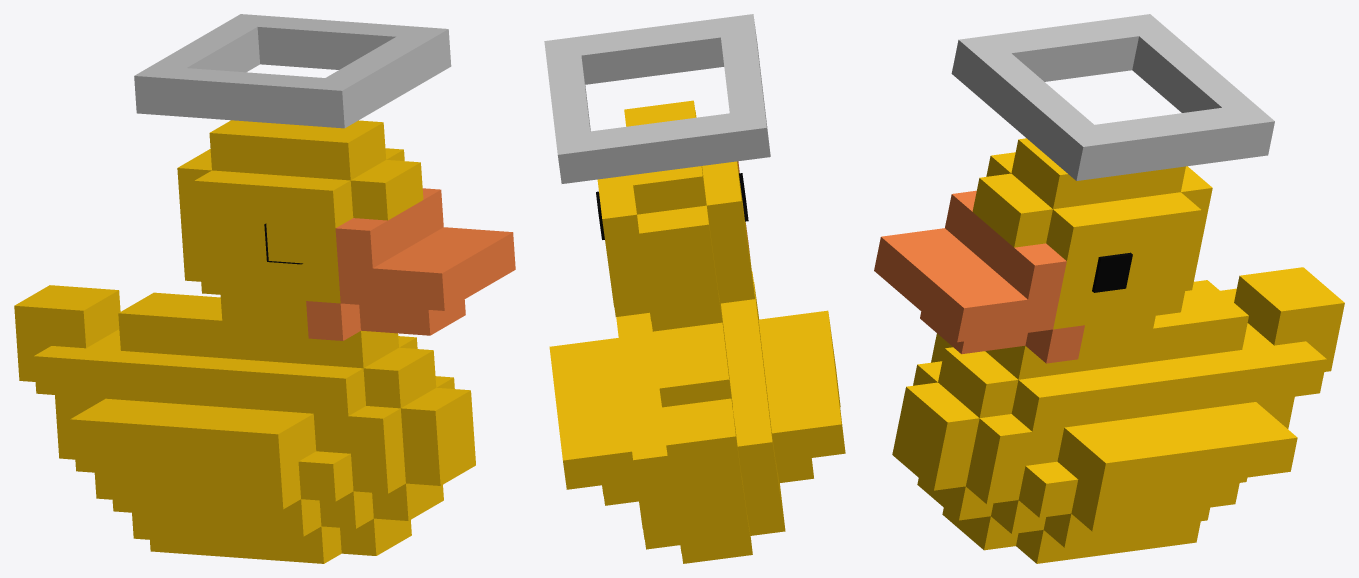
Rendered from holy-duck.glb.
3 renders of one model, left to right at view 1: azimuth 30°, elevation 25°; view 2: azimuth 150°, elevation 25°; view 3: azimuth 270°, elevation 25°, orthographic. The views are drawn at different scales.
Parts seen in each view (by area): view 1: duck_body, halo, duck_beak; view 2: duck_body, halo, duck_eye; view 3: duck_body, halo, duck_beak, duck_eye.
Boxes of the visible parts, x1,y1,x2,y2 form: duck_body: (14, 120, 475, 563); halo: (134, 14, 451, 128); duck_beak: (306, 188, 515, 340); duck_body: (549, 100, 845, 563); halo: (544, 14, 770, 183); duck_eye: (596, 173, 748, 239); duck_body: (892, 138, 1344, 563); halo: (951, 14, 1274, 180); duck_beak: (874, 190, 1084, 363); duck_eye: (1092, 252, 1132, 292).
Size of the model in its own units: 10.64 by 14.34 by 12.15.
